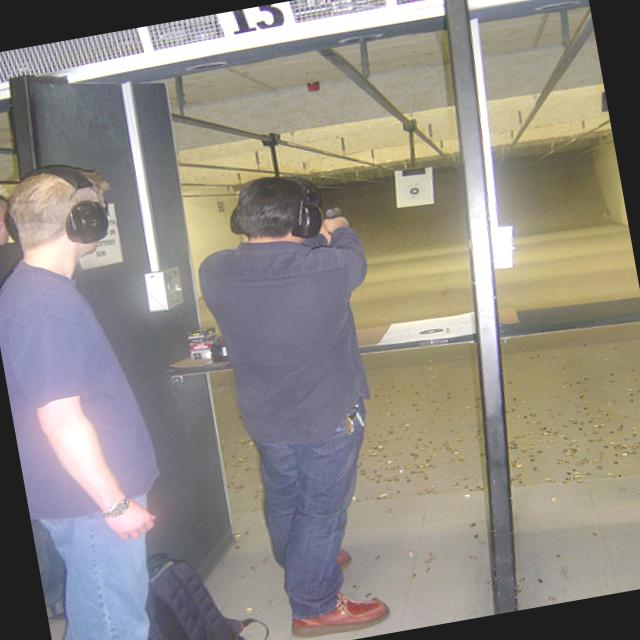handgun: (318, 202, 341, 224)
